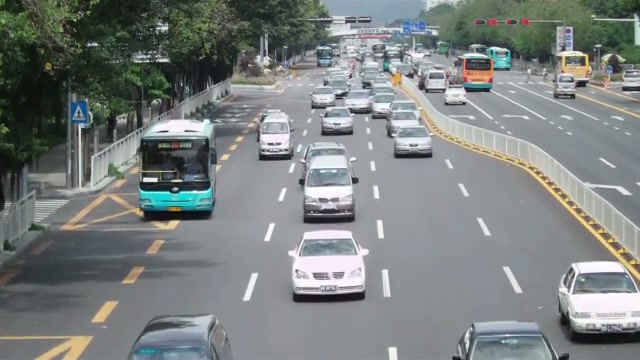bus: (136, 118, 218, 219), (460, 53, 494, 92), (558, 51, 592, 87), (485, 46, 511, 70)
car: (557, 261, 640, 341), (288, 229, 370, 302), (127, 313, 234, 360), (451, 320, 569, 360), (301, 162, 357, 222), (257, 114, 294, 160), (393, 125, 433, 158), (385, 109, 422, 138), (320, 106, 354, 135), (424, 70, 449, 94), (553, 73, 576, 99), (310, 87, 337, 109), (443, 85, 467, 105), (621, 68, 640, 91)
truck: (557, 51, 591, 87), (553, 73, 576, 99), (622, 68, 640, 92)
